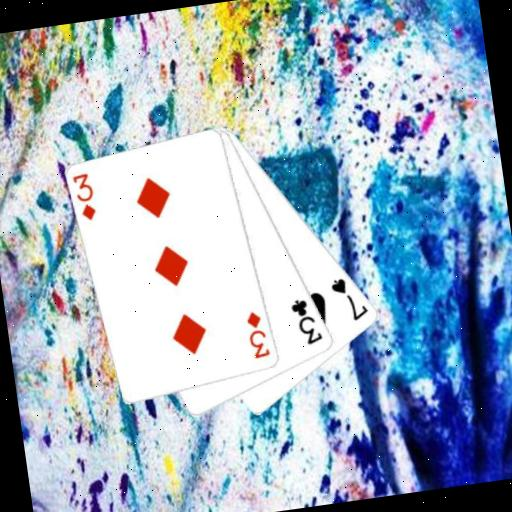3C: (287, 293, 326, 349)
3D: (69, 170, 100, 225), (243, 306, 273, 361)
7S: (327, 272, 372, 326)
